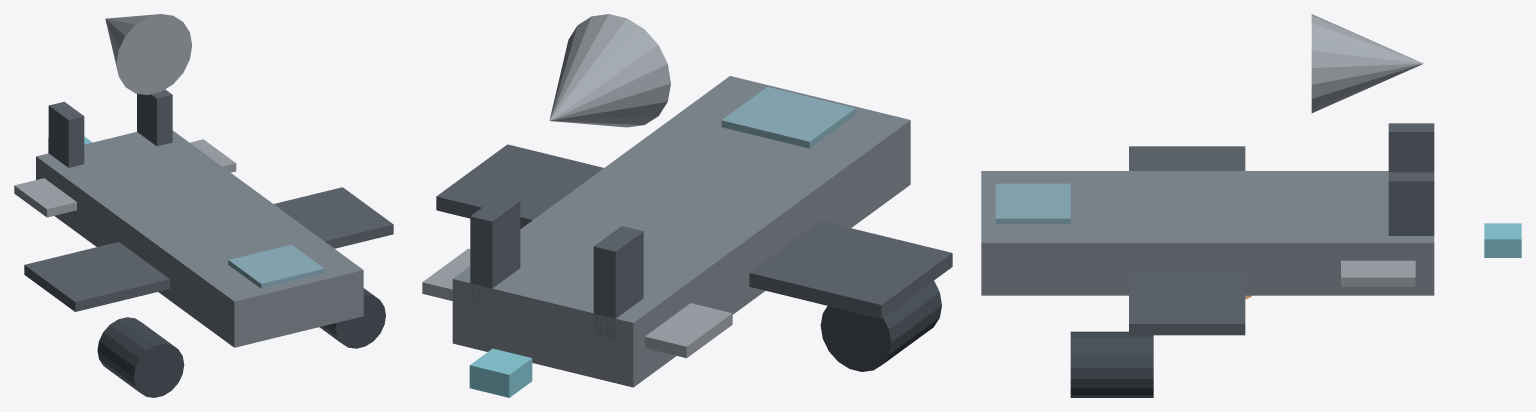
File: human_bomber.glb
3 renders of one model, left to right at view 1: azimuth 30°, elevation 25°; view 2: azimuth 150°, elevation 25°; view 3: azimuth 270°, elevation 25°, orthographic. The views are drawn at different scales.
Parts seen in each view (by area): view 1: bomber_fuselage, main_wings, nose, engine_-1, cockpit, tail_fin_-1, tail_wings, engine_1, tail_fin_1; view 2: bomber_fuselage, main_wings, nose, engine_-1, cockpit, tail_fin_-1, tail_wings, tail_fin_1, engine_glow; view 3: bomber_fuselage, main_wings, nose, engine_1, cockpit, tail_fin_1, tail_fin_-1, tail_wings, engine_glow.
Part boxes in pixels (x1,y1,x2,y2): bomber_fuselage: (36,130,363,347); main_wings: (24,187,393,311); nose: (105,14,192,94); engine_-1: (97,317,184,397); cockpit: (228,244,324,288); tail_fin_-1: (48,101,84,167); tail_wings: (14,139,236,217); engine_1: (319,288,385,348); tail_fin_1: (137,89,172,146); bomber_fuselage: (452,76,910,387); main_wings: (436,144,952,318); nose: (549,14,670,127); engine_-1: (820,281,941,371); cockpit: (721,87,855,148); tail_fin_-1: (593,226,643,338); tail_wings: (422,248,732,358); tail_fin_1: (470,196,520,305); engine_glow: (469,348,532,397); bomber_fuselage: (981,171,1434,295); main_wings: (1129,146,1245,335); nose: (1311,14,1423,112); engine_1: (1070,331,1153,397); cockpit: (995,183,1070,224); tail_fin_1: (1388,172,1434,235); tail_fin_-1: (1388,123,1434,172); tail_wings: (1341,260,1415,286); engine_glow: (1484,223,1521,257).
Bounding box in the file's own units: 2.02 × 1.69 × 2.6.
